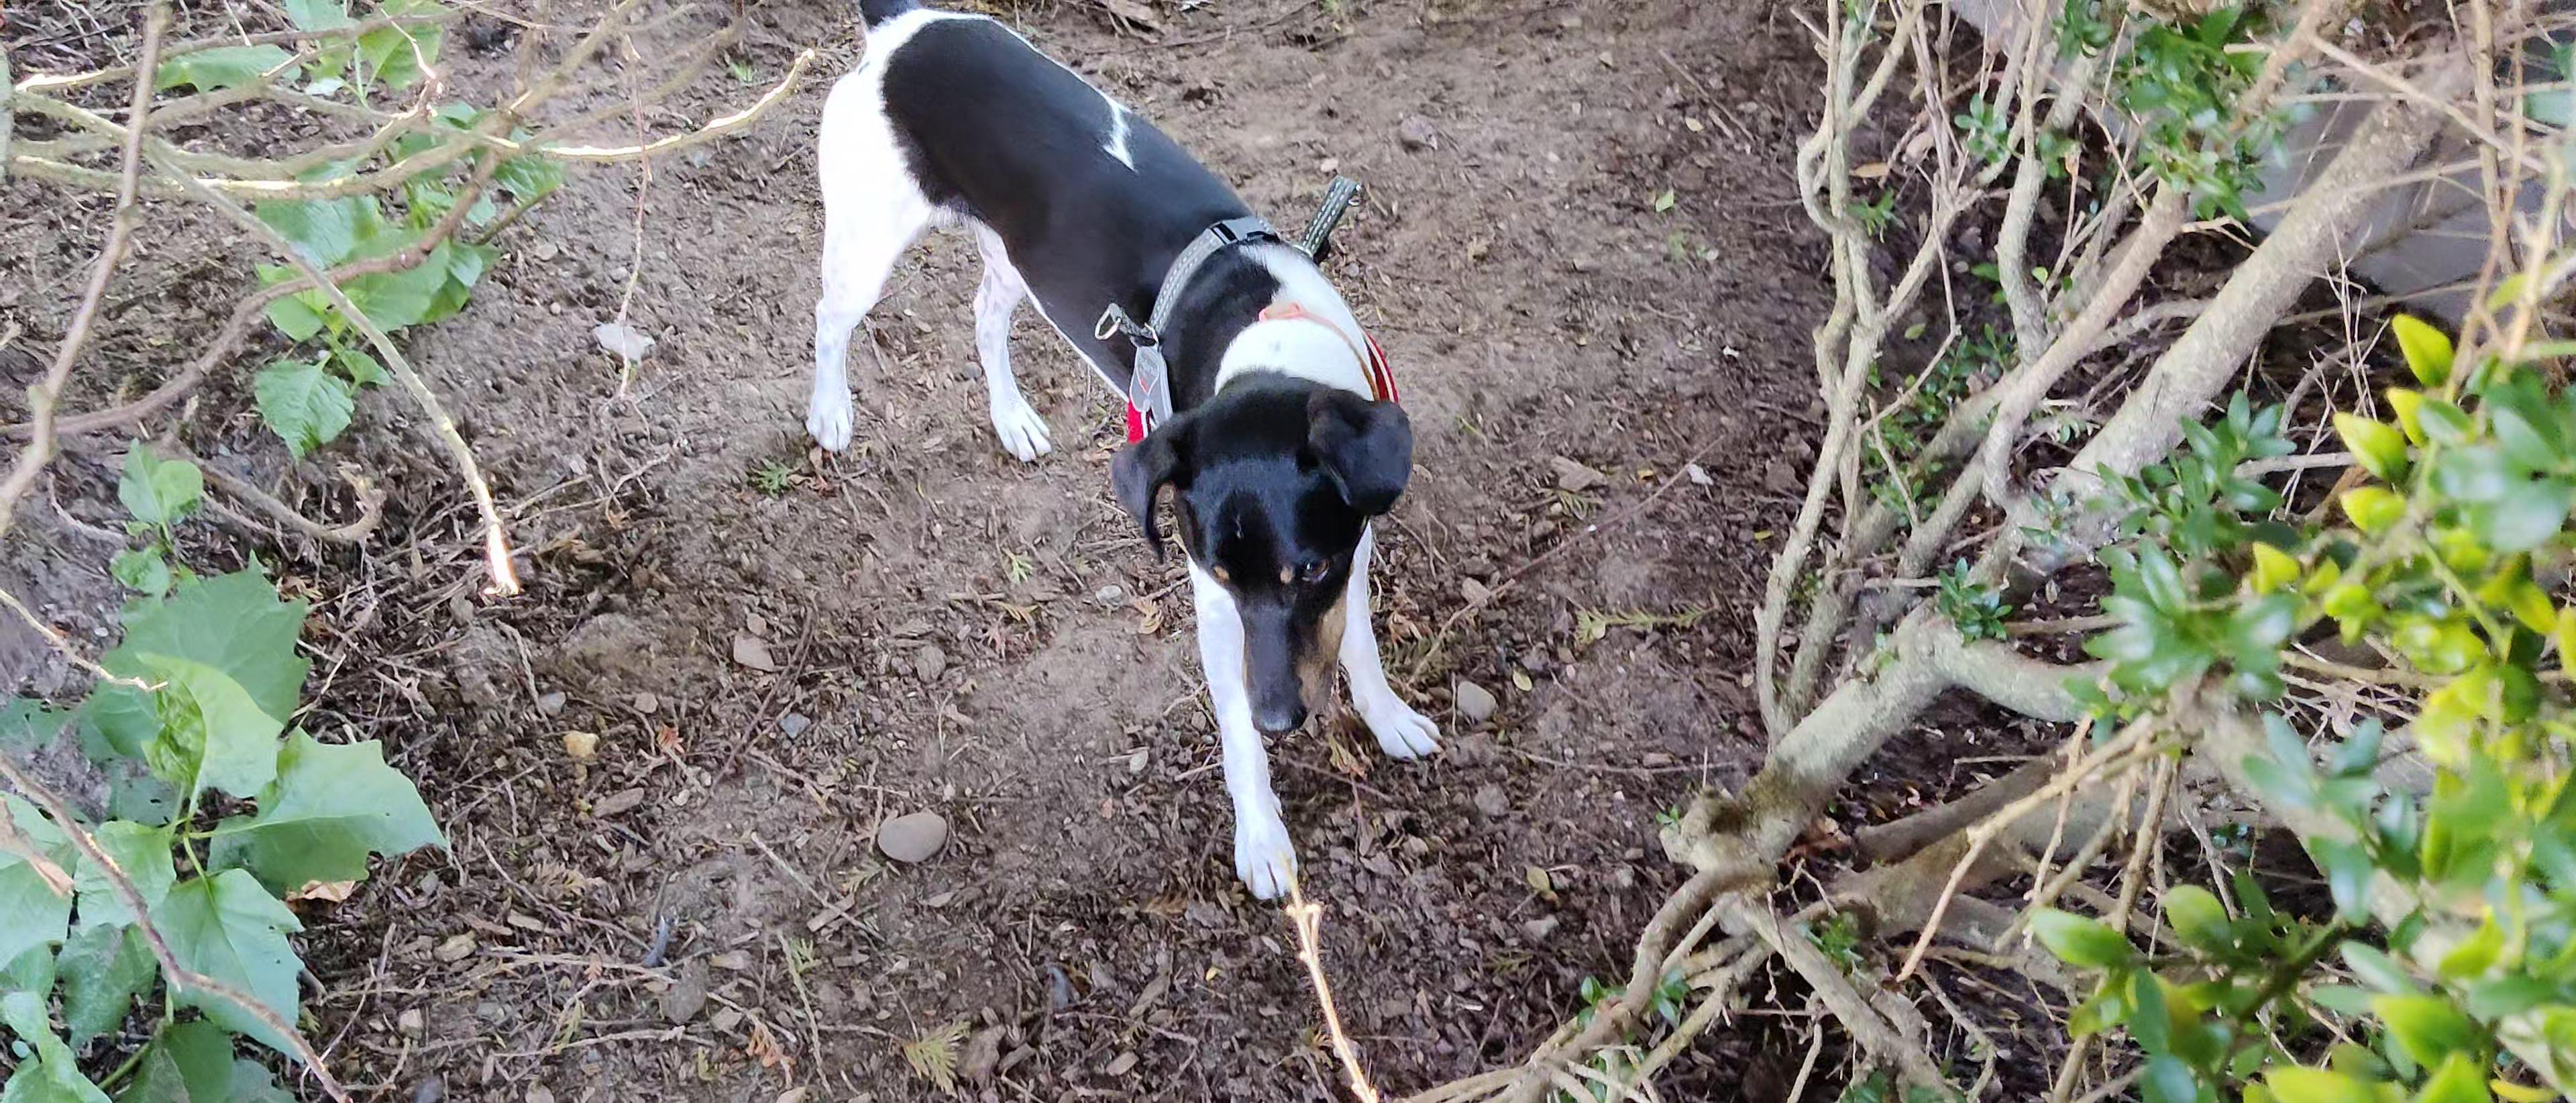Dog: (775, 0, 1485, 925)
